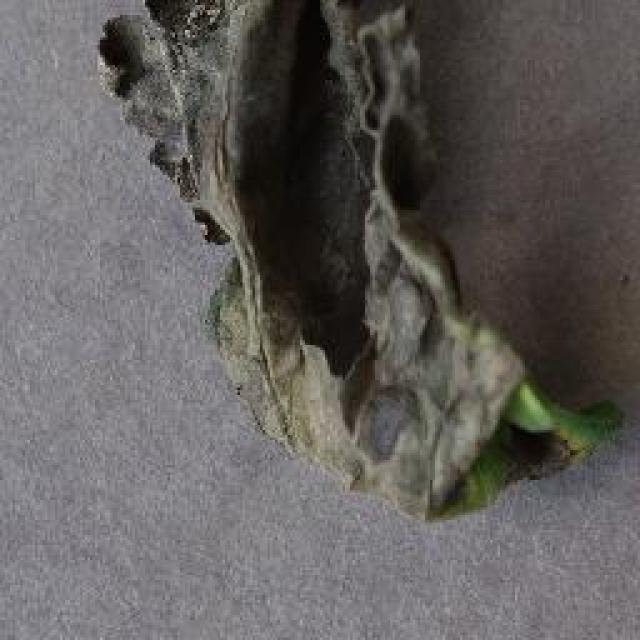Tomato_Early_Blight: (98, 4, 620, 512)
